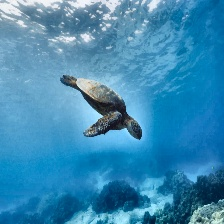seaturtle: (59, 75, 142, 141)
